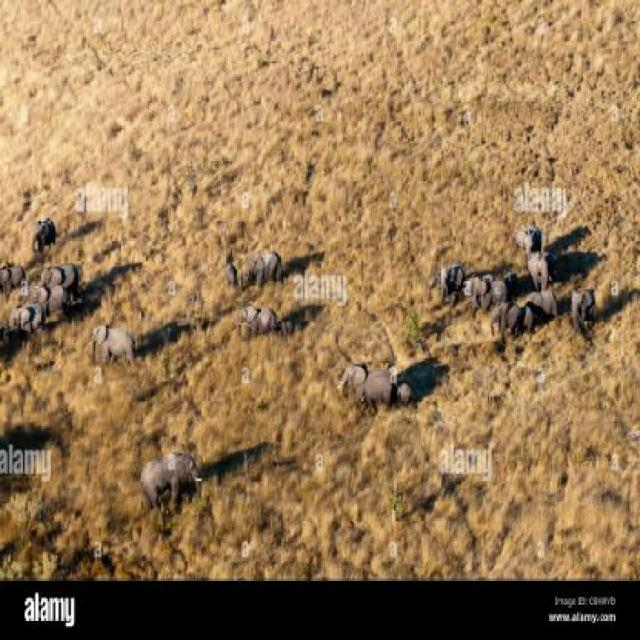elephant: (140, 451, 195, 515), (334, 358, 392, 412), (87, 322, 138, 363), (244, 235, 288, 282), (38, 247, 79, 296), (564, 288, 602, 340), (423, 259, 466, 304), (226, 303, 291, 331), (24, 204, 59, 253), (491, 302, 527, 348), (30, 286, 72, 325), (462, 275, 508, 310), (523, 284, 562, 325), (510, 217, 542, 265), (523, 244, 557, 287), (6, 304, 49, 334), (0, 254, 26, 301), (215, 252, 242, 293), (390, 382, 424, 410)
